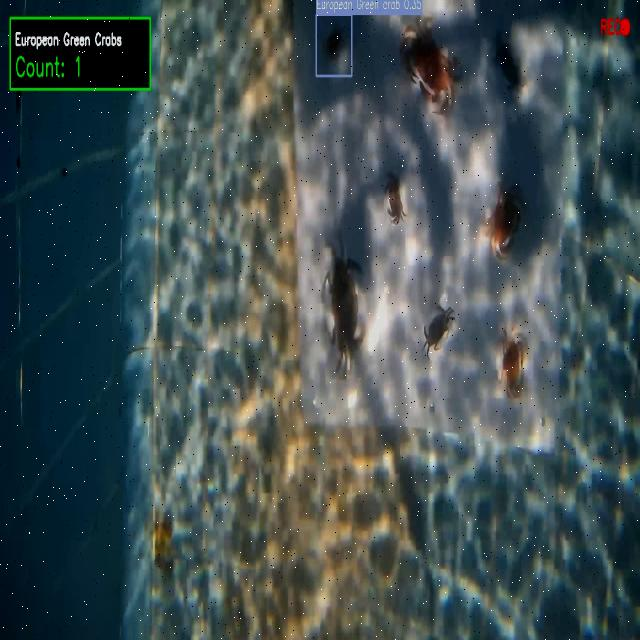European_Green_Crab: (315, 233, 370, 381), (415, 292, 463, 367), (490, 28, 527, 102)
